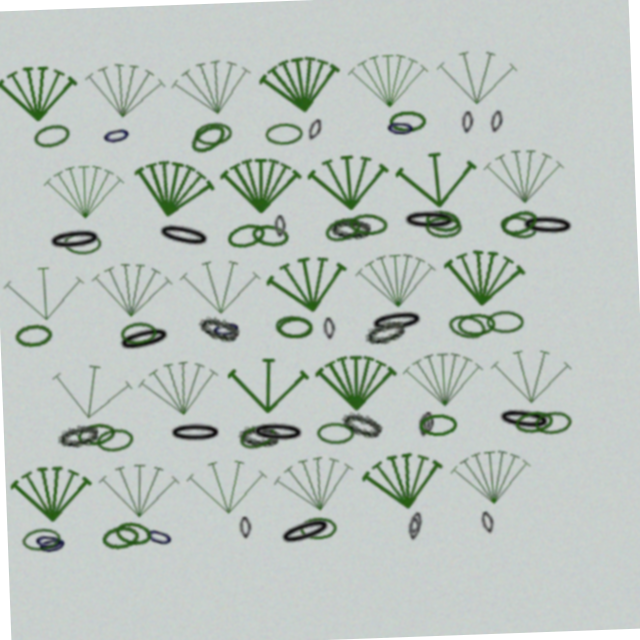chain: (269, 513, 327, 549), (158, 214, 216, 248), (115, 317, 173, 349), (492, 412, 549, 442), (193, 116, 236, 153), (335, 409, 381, 443), (196, 308, 241, 342), (369, 311, 425, 338), (362, 318, 407, 351), (50, 218, 106, 244), (523, 221, 579, 247), (246, 418, 302, 444), (405, 212, 461, 237), (52, 412, 96, 442), (502, 214, 543, 246), (326, 215, 367, 246), (501, 219, 542, 250), (233, 419, 274, 450), (164, 417, 219, 440), (228, 218, 270, 248), (446, 317, 488, 347), (39, 112, 79, 141), (106, 512, 146, 541), (253, 220, 293, 248), (427, 212, 466, 240), (72, 413, 112, 440), (234, 421, 276, 446), (134, 516, 169, 546), (274, 313, 314, 339), (510, 417, 550, 443), (93, 517, 132, 543), (352, 214, 391, 239), (91, 420, 130, 445), (14, 517, 53, 542), (333, 218, 374, 241), (312, 422, 351, 446), (201, 118, 239, 142), (428, 220, 466, 244), (14, 313, 52, 337), (530, 419, 568, 443), (66, 223, 105, 246), (486, 317, 524, 340), (107, 115, 140, 141), (28, 522, 61, 548), (120, 315, 157, 338), (272, 122, 310, 144), (457, 319, 495, 341), (415, 418, 453, 440), (396, 114, 433, 136), (292, 517, 329, 539), (210, 313, 242, 338), (25, 519, 57, 544), (277, 316, 313, 338), (392, 119, 423, 143), (312, 118, 331, 142), (400, 515, 416, 539), (496, 117, 511, 140), (473, 517, 488, 540), (414, 418, 427, 441), (400, 521, 413, 544), (468, 117, 481, 139), (323, 318, 335, 340), (232, 514, 244, 536), (278, 214, 289, 236), (419, 416, 430, 438)
fan: (132, 144, 224, 222), (45, 346, 134, 419), (177, 47, 266, 119), (265, 247, 354, 319), (265, 447, 354, 519), (354, 448, 442, 518), (90, 48, 177, 118), (266, 48, 353, 118), (442, 248, 529, 318), (134, 348, 221, 417), (91, 249, 176, 316), (400, 150, 484, 216), (444, 50, 528, 115), (312, 150, 396, 215), (224, 350, 308, 415), (444, 450, 528, 515), (488, 351, 571, 415), (92, 451, 175, 515), (225, 151, 307, 214), (5, 251, 87, 314), (181, 251, 263, 314), (357, 251, 439, 314), (313, 352, 395, 414), (489, 152, 570, 214), (401, 352, 482, 414), (5, 452, 86, 514), (5, 52, 86, 113), (357, 52, 438, 113), (49, 152, 130, 213), (181, 452, 262, 513)
